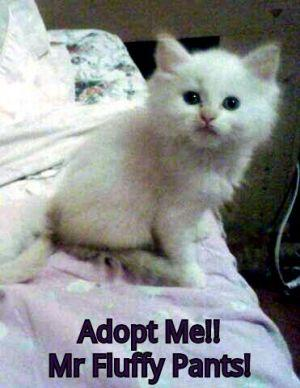persian: (153, 31, 285, 160)
